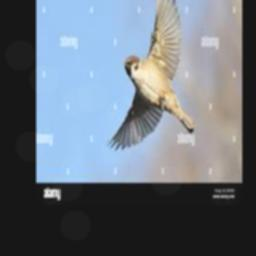Sparrow: (105, 0, 196, 150)
